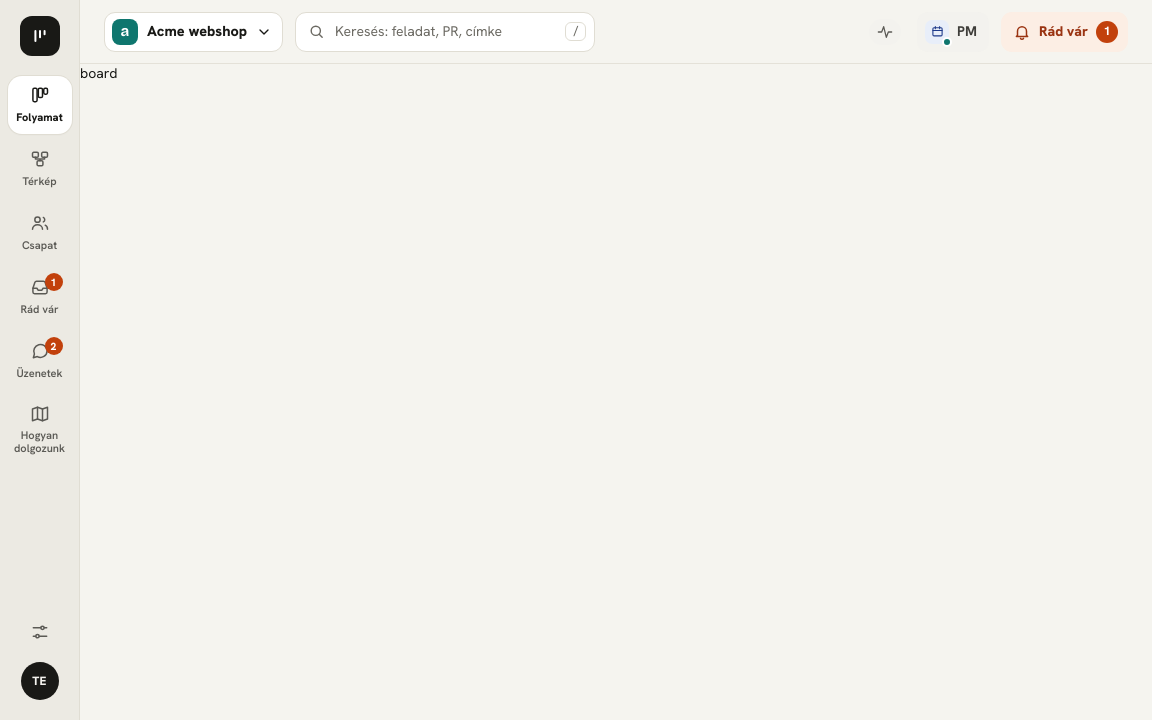
Test case: the Operator button › is there for a client, with no signal count and no signal cards
The image size is (1152, 720).
What coordinates should you click on to do the following:
click the button "PM"
I would click on:
 (953, 32)
Its box is 917,12 -> 989,52.
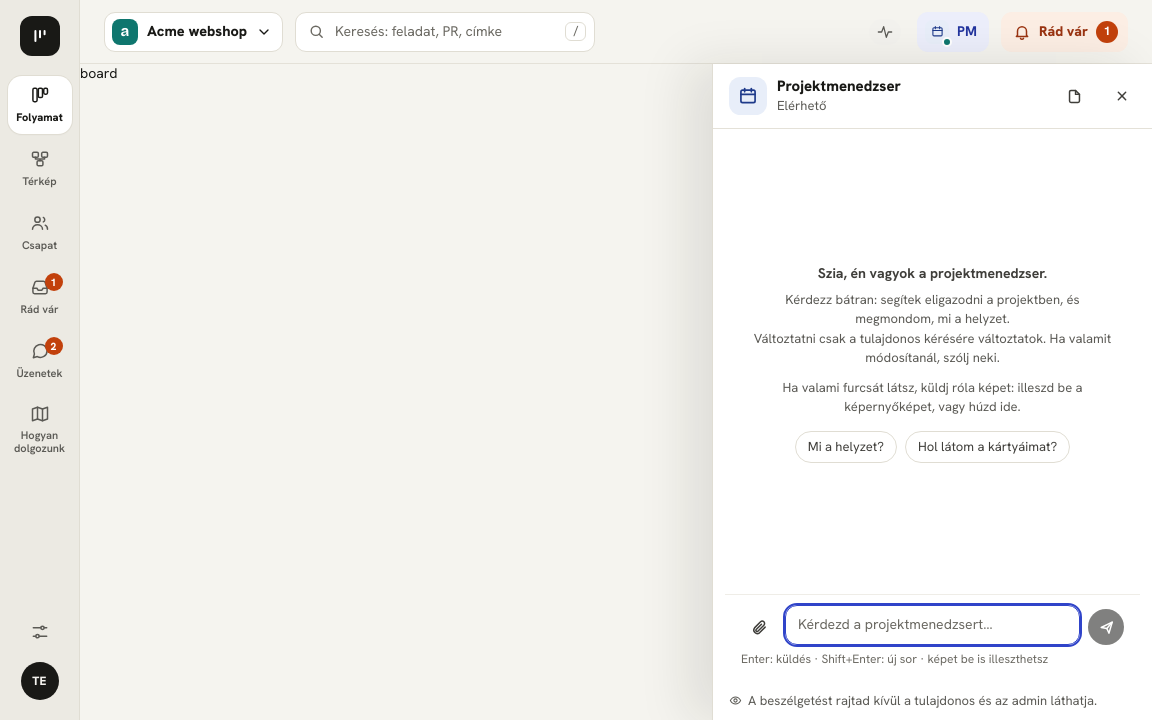
Now the text box named "Üzenet a projektmenedzsernek" is shown, box 785,605 -> 1080,645
